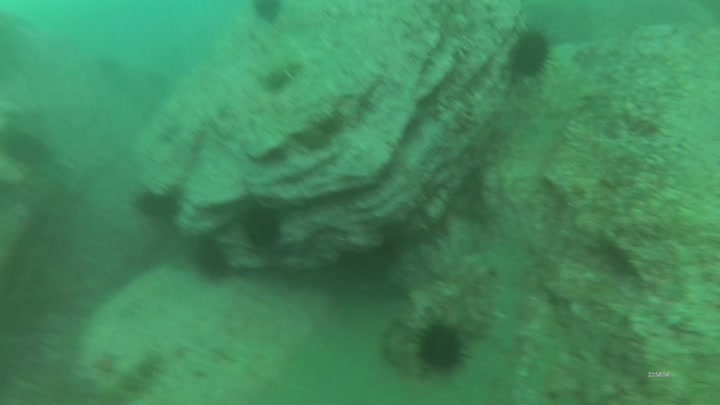echinus: (411, 323, 473, 369), (511, 28, 554, 79), (193, 236, 234, 282), (134, 189, 178, 224), (244, 213, 283, 250), (253, 1, 284, 26)
holothurian: (101, 355, 166, 405), (257, 59, 302, 93)
